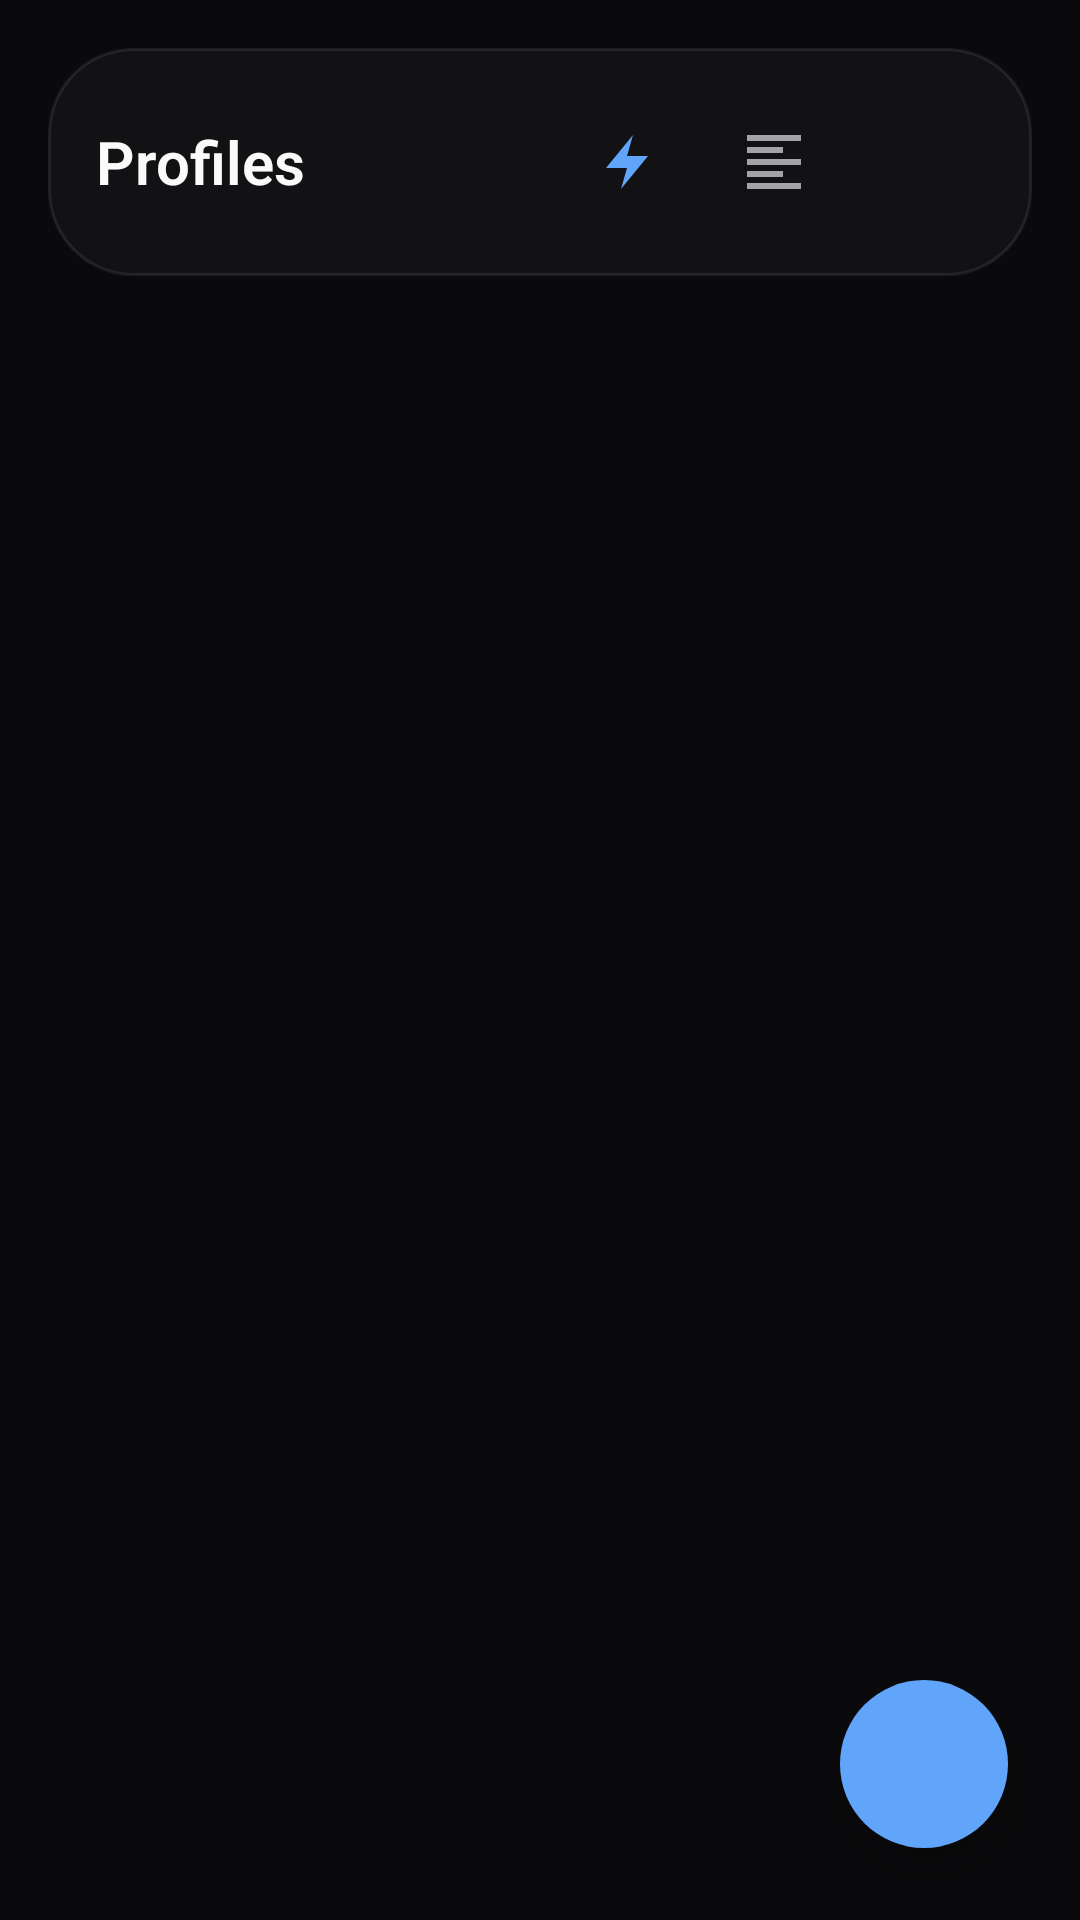

Where icons sit on this 1080*1920 app screen, as {"left": x1, "top": y1, "right": x2, "bottom": y2}:
Logs: {"left": 747, "top": 135, "right": 801, "bottom": 189}
